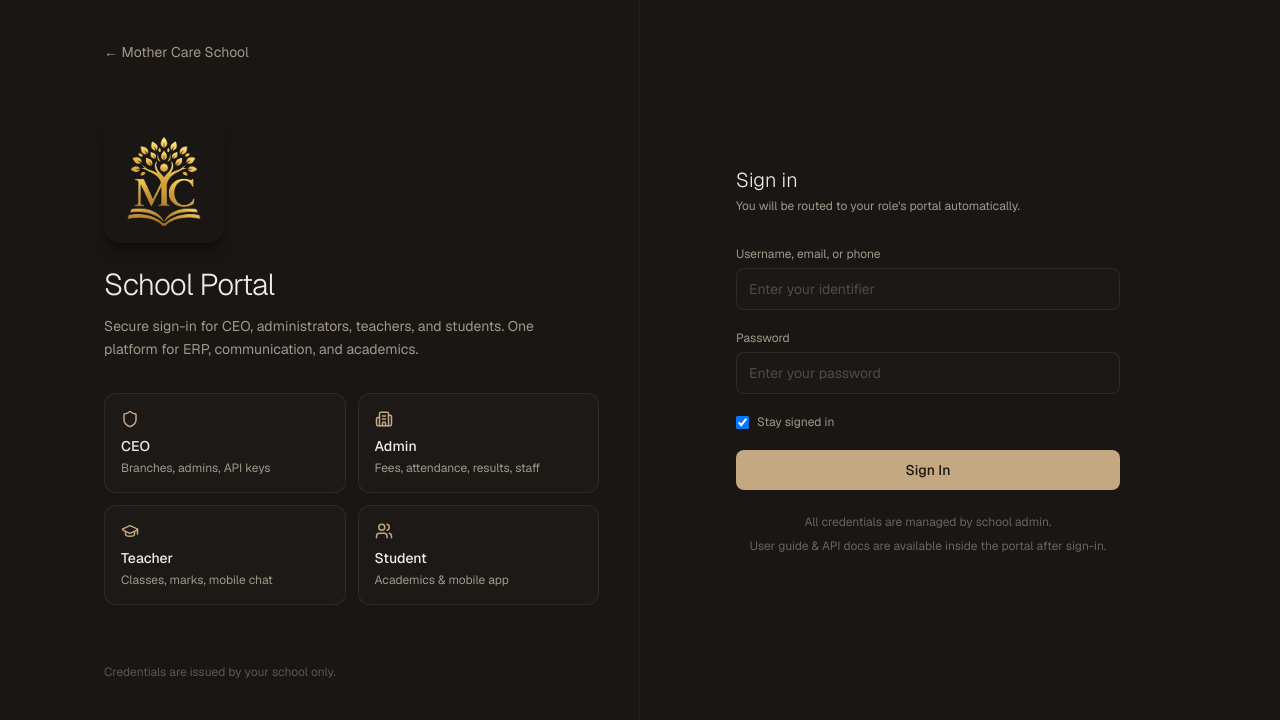
it: Auth Navigation — Login Page › displays network error on failed request
Type "admin" into the field with placeholder "Enter your identifier" at [928, 289], box [736, 268, 1120, 310]
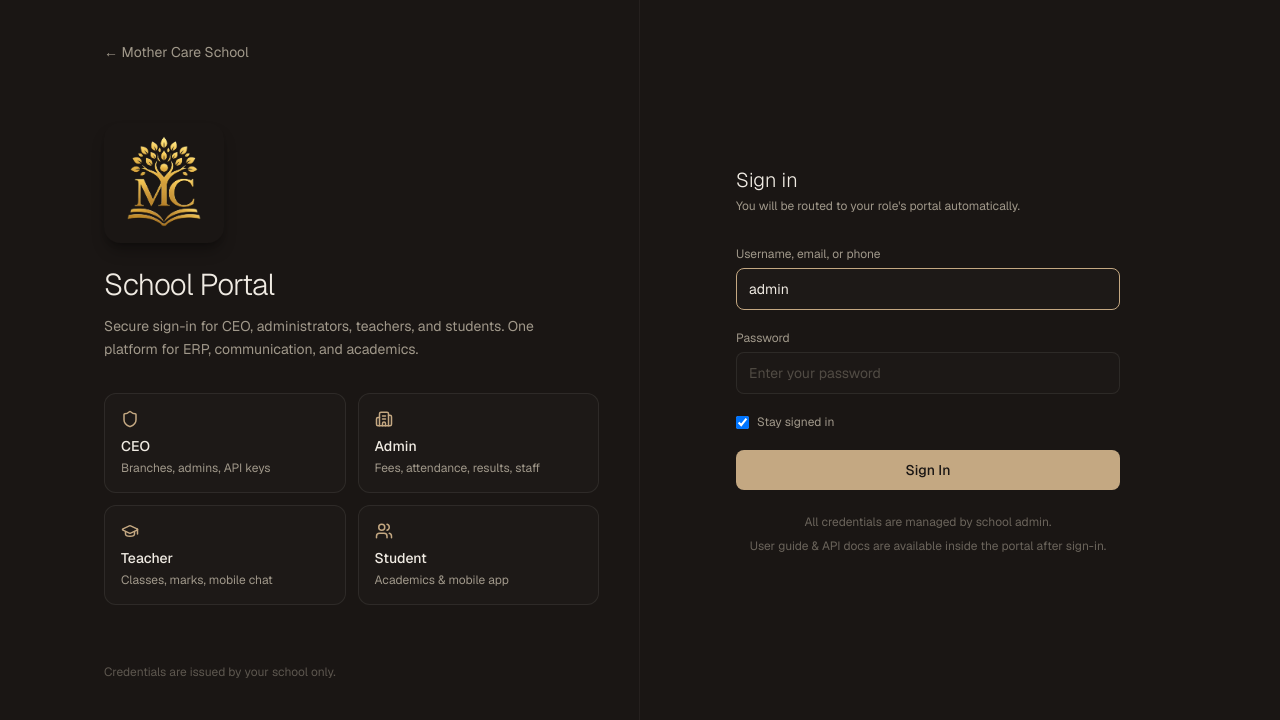
Type "admin123" into the password field with placeholder "Enter your password" at [928, 373], box [736, 352, 1120, 394]
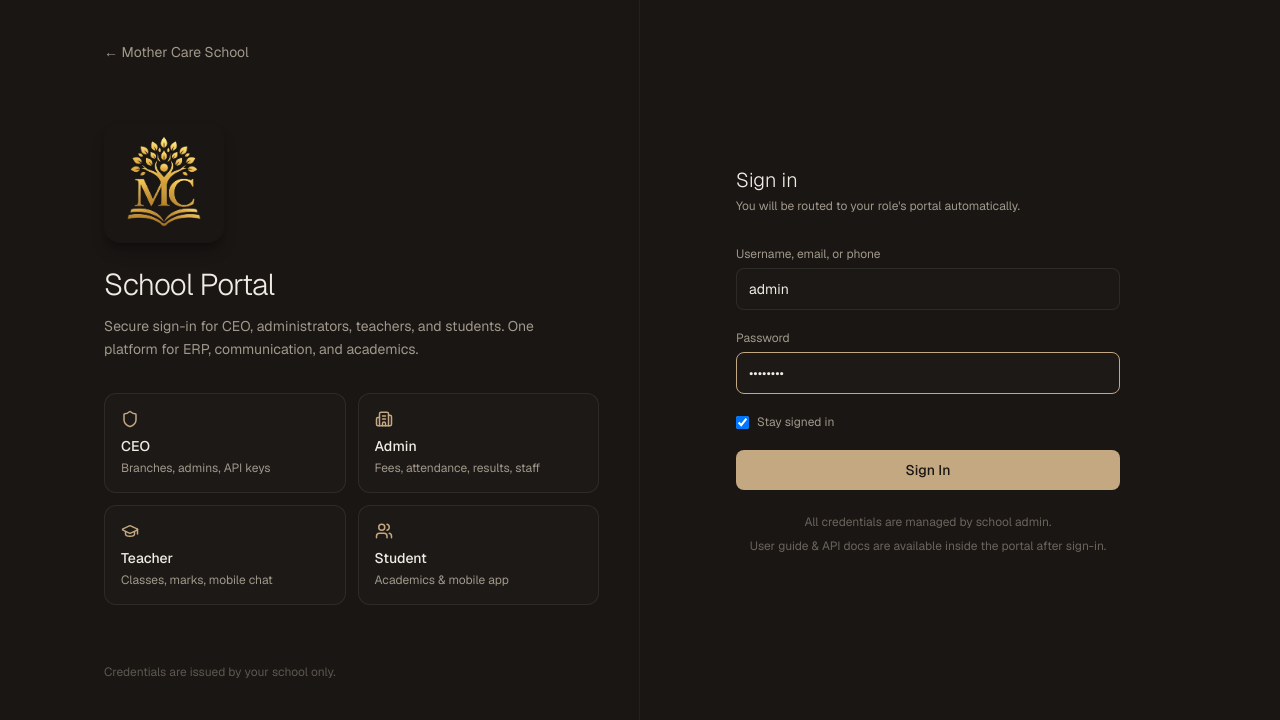
Click the button "Sign In" at [928, 470], box [736, 450, 1120, 490]
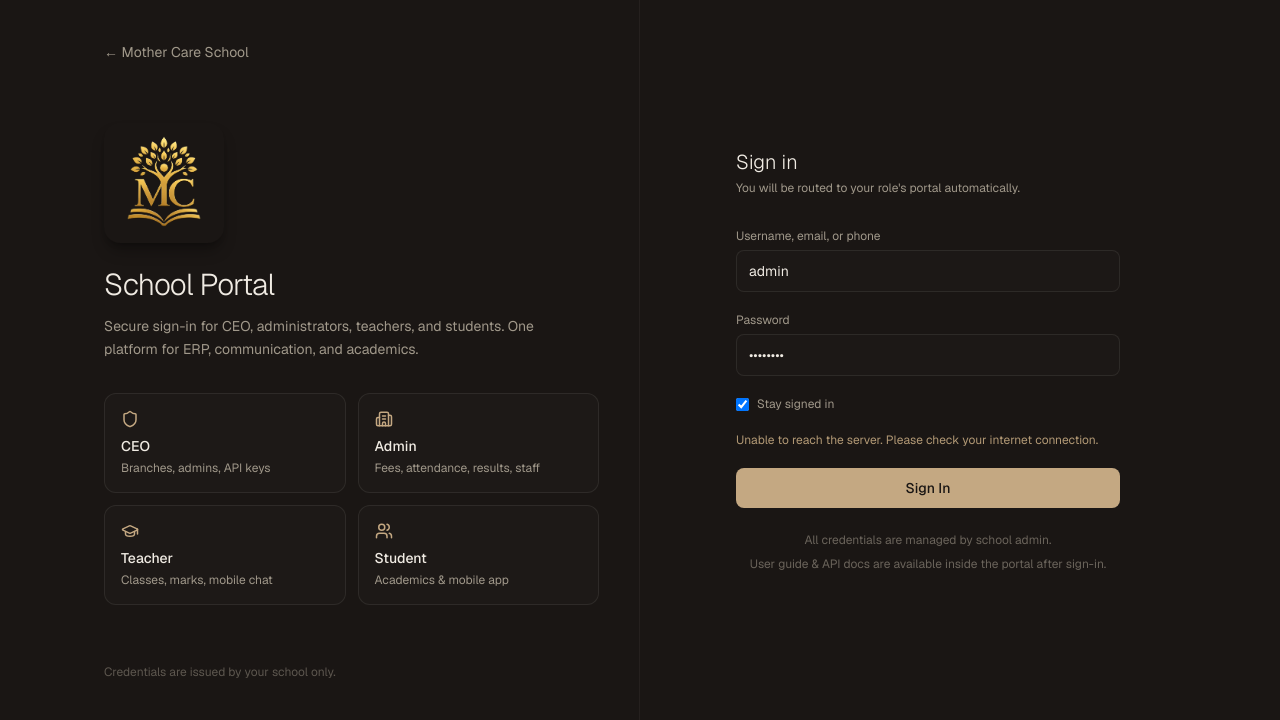
Now the text "Unable to reach the server. Please check your internet connection." is shown, box [736, 432, 1120, 448]
